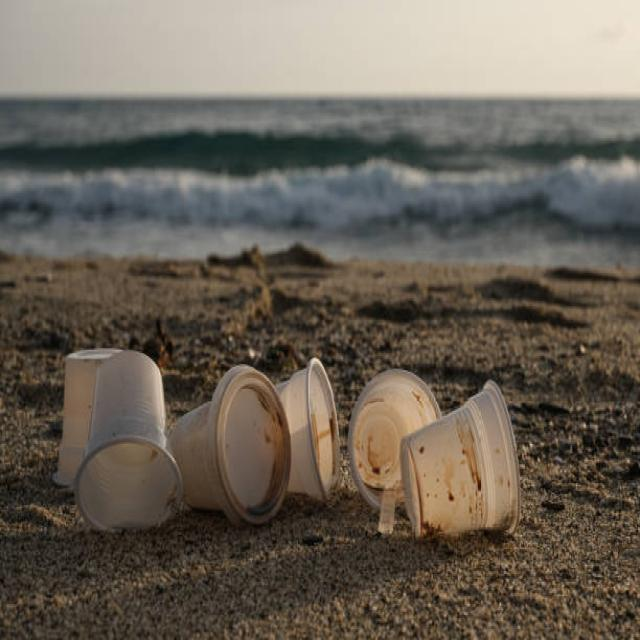plastic: (29, 345, 528, 554)
